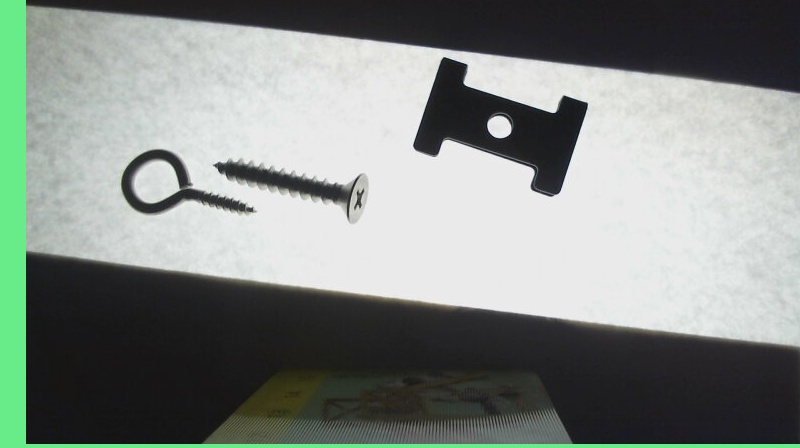O001: (118, 148, 259, 222)
O002: (408, 55, 592, 198)
S001: (213, 157, 373, 227)
